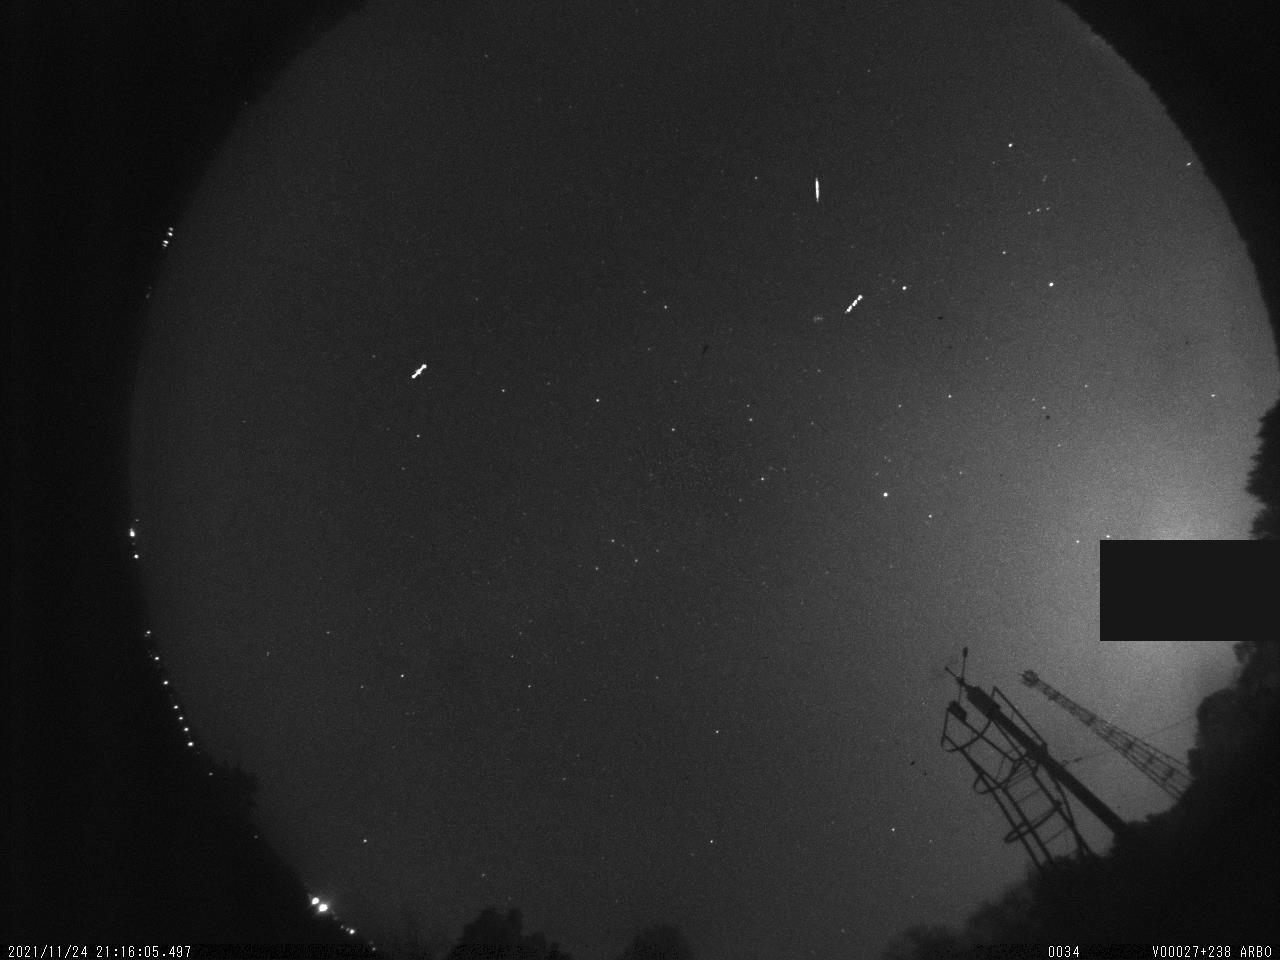meteor: (806, 173, 830, 212)
satelite: (401, 354, 433, 388), (843, 288, 867, 325)
